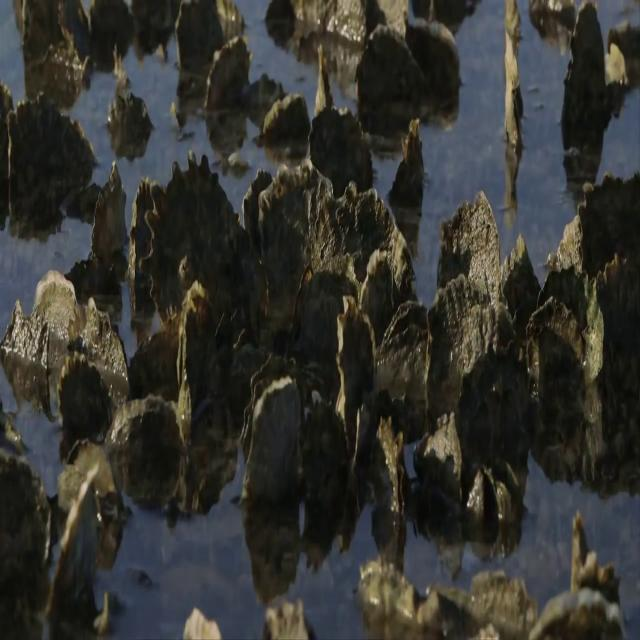Oyster-Closed: (174, 284, 234, 517), (12, 302, 90, 459), (553, 167, 638, 283), (106, 397, 190, 512), (242, 370, 303, 497), (338, 293, 381, 473), (52, 338, 122, 448), (62, 287, 131, 389), (371, 407, 415, 563), (304, 386, 352, 510), (379, 296, 430, 405), (410, 412, 465, 502), (89, 156, 130, 274), (3, 290, 56, 378), (500, 228, 545, 325), (202, 35, 253, 111), (391, 103, 428, 206), (501, 21, 527, 159), (127, 166, 151, 313), (258, 86, 311, 143), (312, 31, 337, 114)
Oyster-Indeterminate: (136, 141, 251, 325), (3, 77, 100, 234), (458, 300, 534, 493), (311, 174, 421, 302), (257, 161, 337, 333), (422, 264, 499, 418), (434, 167, 511, 312), (558, 1, 612, 158), (518, 292, 589, 409), (27, 253, 88, 366), (293, 263, 360, 356), (306, 104, 374, 195), (585, 252, 640, 364), (532, 263, 591, 334)
